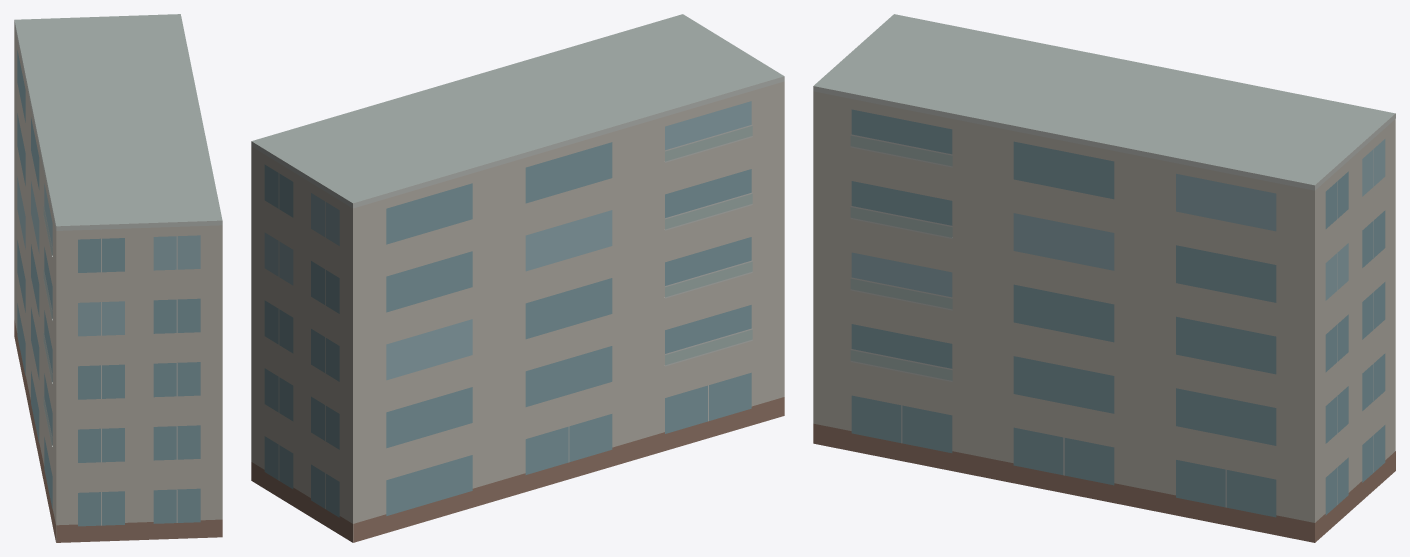
File: survey-upis-32553345.glb
3 views of the same model, side by side, from view 1: azimuth 30°, elevation 25°; view 2: azimuth 150°, elevation 25°; view 3: azimuth 270°, elevation 25° (orthographic). The views are drawn at different scales.
Parts seen in each view (by area): view 1: survey-upis-32553345.tmp; view 2: survey-upis-32553345.tmp; view 3: survey-upis-32553345.tmp.
Part boxes in pixels (<box>): survey-upis-32553345.tmp: <box>14,14,222,542</box>; survey-upis-32553345.tmp: <box>251,14,784,542</box>; survey-upis-32553345.tmp: <box>813,14,1395,542</box>.
Bounding box in the file's own units: 16.66 × 16.2 × 23.93.
